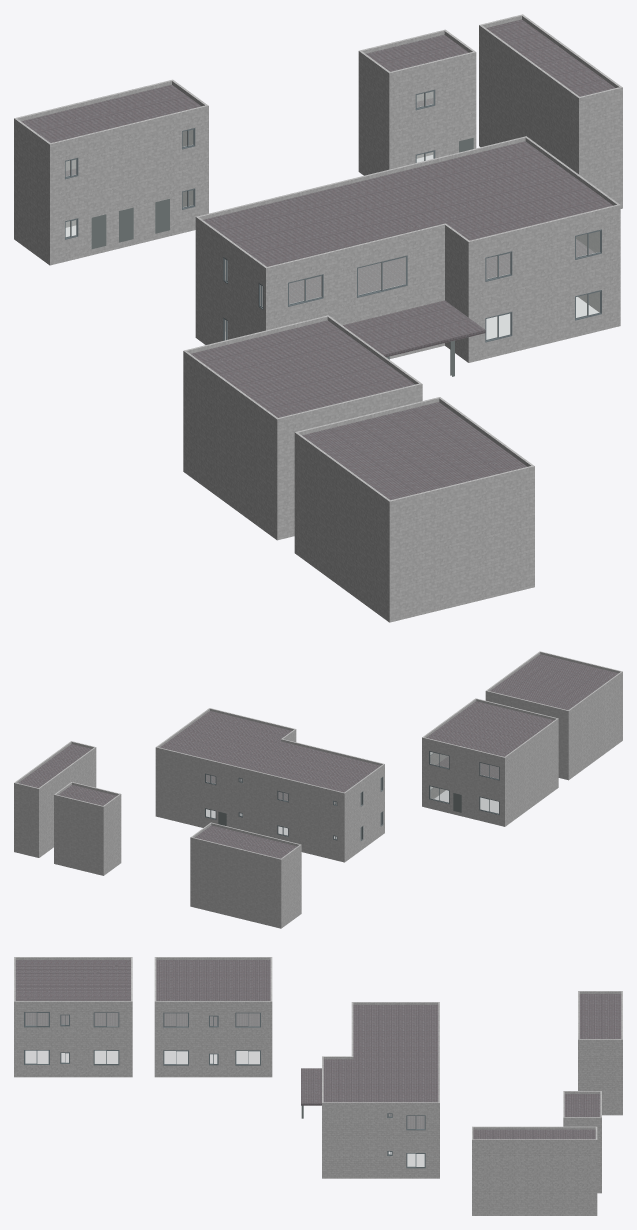
File: Plan(REF)_levels(2)_window(REF)_wall(Masonry - Structural)_quoin(N)_cornice(N).fbx
3 renders of one model, top to bottom at view 1: azimuth 30°, elevation 25°; view 2: azimuth 150°, elevation 25°; view 3: azimuth 270°, elevation 25°, orthographic. The views are drawn at different scales.
Visible parts, largest first — view 1: Masonry - Structural, Shingle - Roofing - Designer Grade, Glass - Clear, Metal - Finish - Aluminum, Metal - Finish - Painted Steel; view 2: Masonry - Structural, Shingle - Roofing - Designer Grade, Glass - Clear, Metal - Finish - Aluminum; view 3: Masonry - Structural, Shingle - Roofing - Designer Grade, Glass - Clear, Metal - Finish - Aluminum.
Boxes of the visible parts, box(x1,y1,x2,y2) form: Masonry - Structural: box(14, 14, 622, 622); Shingle - Roofing - Designer Grade: box(21, 19, 615, 500); Glass - Clear: box(66, 91, 599, 339); Metal - Finish - Aluminum: box(65, 89, 601, 342); Metal - Finish - Painted Steel: box(91, 138, 473, 248); Masonry - Structural: box(14, 651, 622, 928); Shingle - Roofing - Designer Grade: box(18, 654, 618, 858); Glass - Clear: box(206, 752, 498, 838); Metal - Finish - Aluminum: box(205, 751, 499, 840); Masonry - Structural: box(14, 957, 622, 1215); Shingle - Roofing - Designer Grade: box(15, 960, 621, 1139); Glass - Clear: box(25, 1013, 424, 1166); Metal - Finish - Aluminum: box(24, 1012, 425, 1168).
Size of the model in its own units: 4148 by 5833 by 800.
9 materials, 3 textured.
